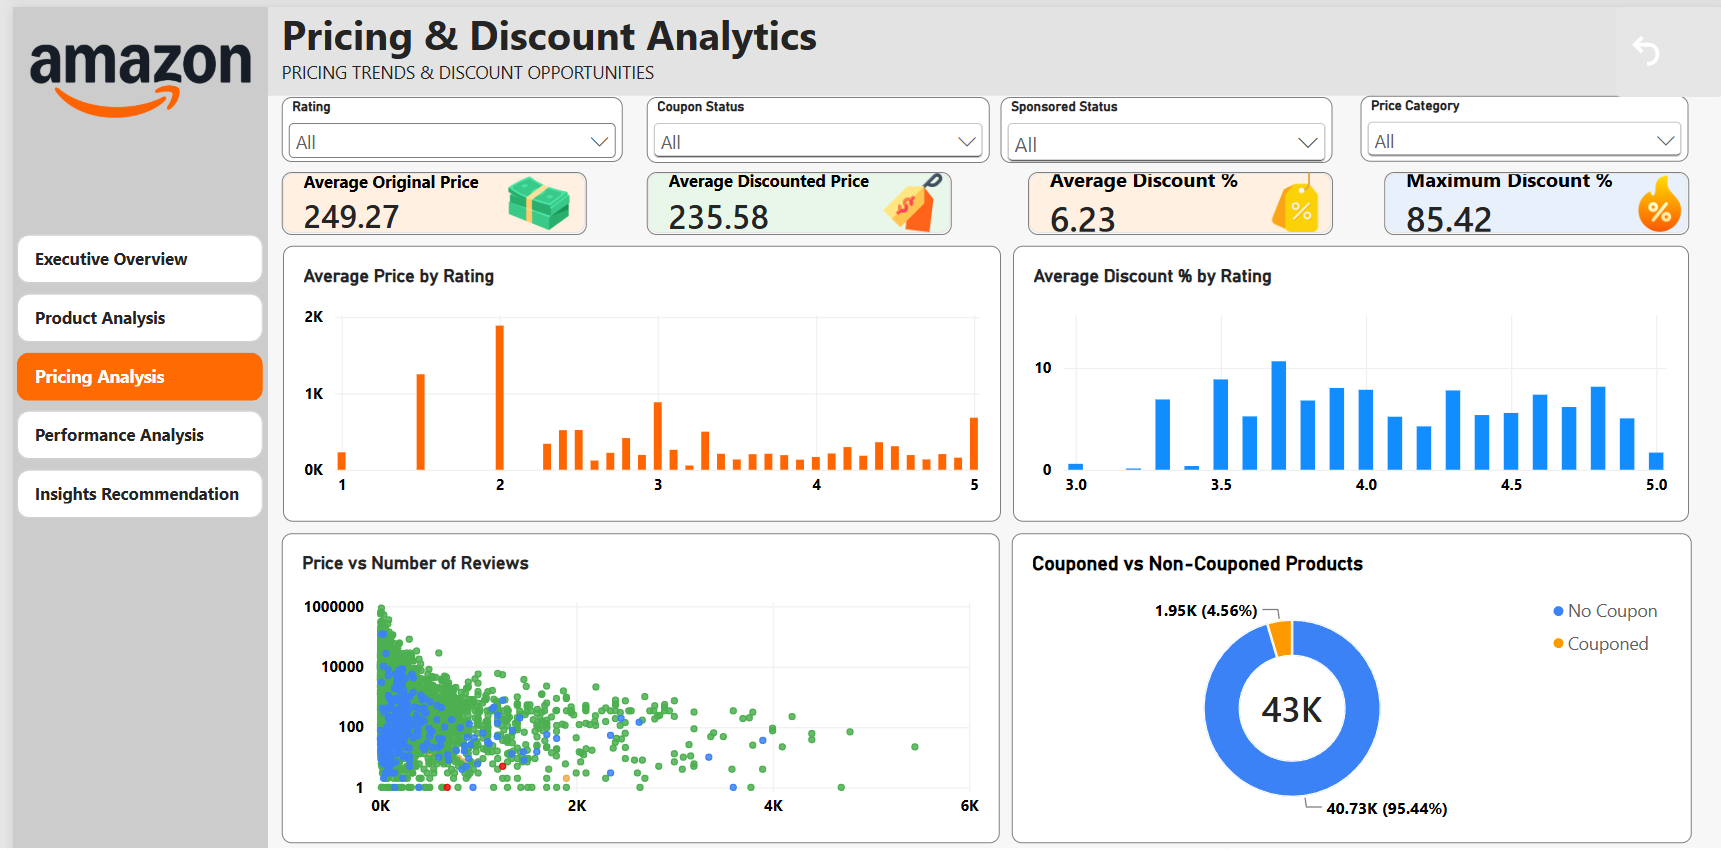

Layout of this report page (visuals, bound fields, positions):
{"tool":"powerbi","page":{"name":"Pricing Analysis","canvas":[1920,1080],"ordinal":2},"visuals":[{"type":"shape","box":[0,0,204,784],"z":0},{"type":"pageNavigator","box":[3,182,197,231],"z":1000},{"type":"shape","box":[204,0,1244,71],"z":2000},{"type":"image","box":[14,11,176,97],"z":3000},{"type":"textbox","box":[215,0,1214,60],"z":4000},{"type":"slicer","fields":{"Values":["amazon_products_sales_data_uncl.rating"]},"box":[215,72,273,52],"z":5000},{"type":"slicer","fields":{"Values":["amazon_products_sales_data_uncl.Coupon Status"]},"box":[507,72,275,53],"z":6000},{"type":"slicer","fields":{"Values":["amazon_products_sales_data_uncl.is_sponsored"]},"box":[790,72,266,53],"z":7000},{"type":"slicer","fields":{"Values":["amazon_products_sales_data_uncl.Price Category"]},"box":[1078,71,263,53],"z":8000},{"type":"cardVisual","fields":{"Data":["amazon_products_sales_data_uncl.Average Original Price"]},"box":[215,132,244,50],"z":9000},{"type":"cardVisual","fields":{"Data":["amazon_products_sales_data_uncl.Average Discounted Price"]},"box":[507,132,244,50],"z":10000},{"type":"cardVisual","fields":{"Data":["amazon_products_sales_data_uncl.Average Discount %"]},"box":[812,132,244,50],"z":11000},{"type":"cardVisual","fields":{"Data":["amazon_products_sales_data_uncl.Maximum Discount %"]},"box":[1097,132,244,50],"z":12000},{"type":"clusteredColumnChart","title":"Average Price by Rating","fields":{"Category":["amazon_products_sales_data_uncl.Rating"],"Y":["amazon_products_sales_data_uncl.Average Original Price"]},"box":[216,191,575,221],"z":13000},{"type":"clusteredColumnChart","title":"Average Discount % by Rating","fields":{"Category":["amazon_products_sales_data_uncl.Rating"],"Y":["amazon_products_sales_data_uncl.Average Discount %"]},"box":[800,191,541,221],"z":14000},{"type":"donutChart","title":"Couponed vs Non-Couponed Products","fields":{"Category":["amazon_products_sales_data_uncl.Coupon Status"],"Y":["CountNonNull(amazon_products_sales_data_uncl.title)"]},"box":[799,421,544,248],"z":15000},{"type":"scatterChart","title":"Price vs Number of Reviews","fields":{"Category":["amazon_products_sales_data_uncl.title"],"X":["Avg(amazon_products_sales_data_uncl.Discounted_price)"],"Y":["Avg(amazon_products_sales_data_uncl.number_of_reviews)"],"Series":["amazon_products_sales_data_uncl.Rating Category"]},"box":[215,421,575,248],"z":16000},{"type":"image","box":[384,129,75,56],"z":17000},{"type":"image","box":[689,133,62,47],"z":18000},{"type":"image","box":[996,132,60,48],"z":19000},{"type":"image","box":[1295,135,46,45],"z":20000},{"type":"actionButton","box":[1282,0,86,72],"z":20001}]}

Visuals, with their boxes on the page's 1920x1080 design canvas (x1, y1, x2, y2). These are canvas units, not pixel positions in the 1721x850 screenshot, which may show the page scaled, cropped or inside an application window:
shape: rect(0, 0, 204, 784)
pageNavigator: rect(3, 182, 200, 413)
shape: rect(204, 0, 1448, 71)
image: rect(14, 11, 190, 108)
textbox: rect(215, 0, 1429, 60)
slicer - amazon_products_sales_data_uncl.rating: rect(215, 72, 488, 124)
slicer - amazon_products_sales_data_uncl.Coupon Status: rect(507, 72, 782, 125)
slicer - amazon_products_sales_data_uncl.is_sponsored: rect(790, 72, 1056, 125)
slicer - amazon_products_sales_data_uncl.Price Category: rect(1078, 71, 1341, 124)
cardVisual - amazon_products_sales_data_uncl.Average Original Price: rect(215, 132, 459, 182)
cardVisual - amazon_products_sales_data_uncl.Average Discounted Price: rect(507, 132, 751, 182)
cardVisual - amazon_products_sales_data_uncl.Average Discount %: rect(812, 132, 1056, 182)
cardVisual - amazon_products_sales_data_uncl.Maximum Discount %: rect(1097, 132, 1341, 182)
"Average Price by Rating" clusteredColumnChart: rect(216, 191, 791, 412)
"Average Discount % by Rating" clusteredColumnChart: rect(800, 191, 1341, 412)
"Couponed vs Non-Couponed Products" donutChart: rect(799, 421, 1343, 669)
"Price vs Number of Reviews" scatterChart: rect(215, 421, 790, 669)
image: rect(384, 129, 459, 185)
image: rect(689, 133, 751, 180)
image: rect(996, 132, 1056, 180)
image: rect(1295, 135, 1341, 180)
actionButton: rect(1282, 0, 1368, 72)
